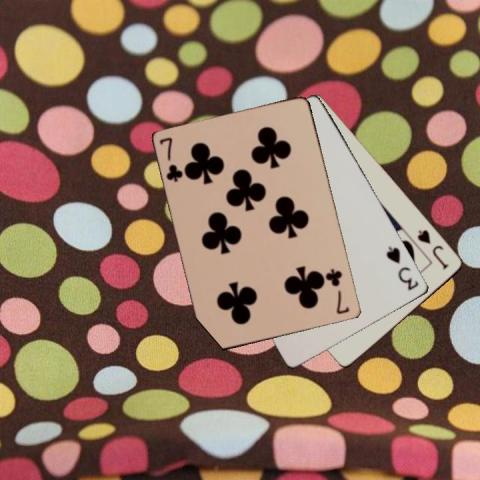3s: (383, 243, 421, 292)
7c: (156, 135, 184, 184), (325, 265, 351, 316)
Js: (414, 226, 451, 271)
